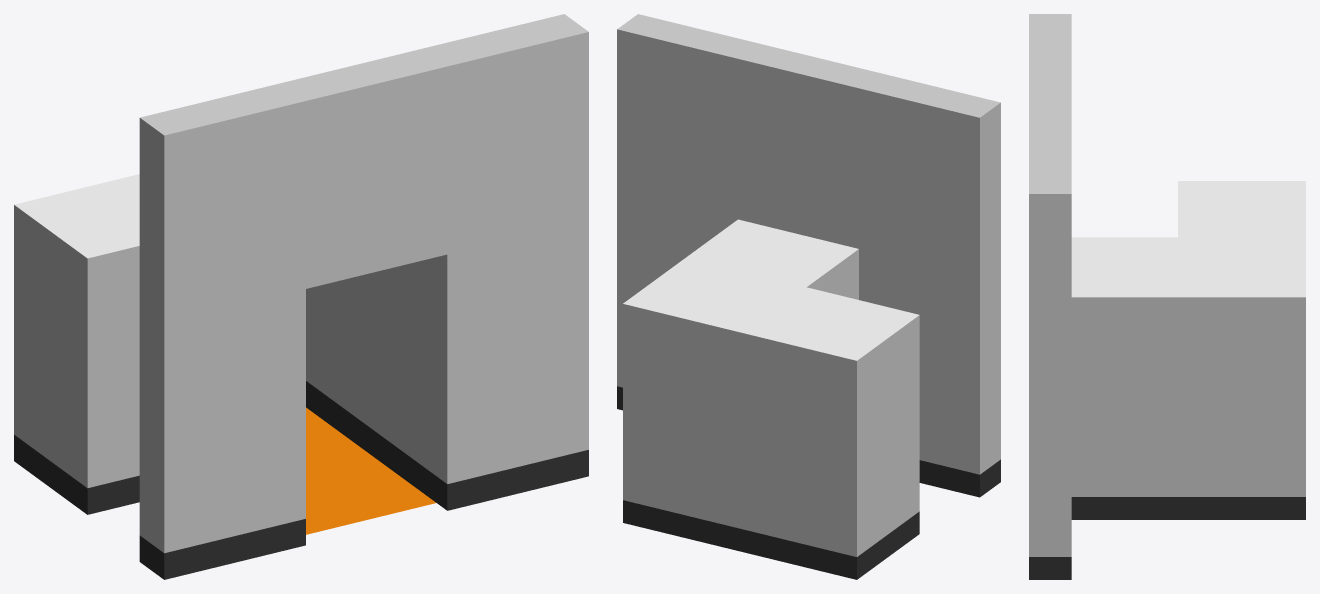
The model's file is RestroomLeft.fbx.
The picture shows the model from 3 angles, left to right: view 1: azimuth 30°, elevation 25°; view 2: azimuth 150°, elevation 25°; view 3: azimuth 270°, elevation 25°; orthographic projection. The views are drawn at different scales.
Visible parts, largest first — view 1: RestroomLeft.001; view 2: RestroomLeft.001; view 3: RestroomLeft.001.
Boxes of the visible parts, left/top/right/bottom form: RestroomLeft.001: left=14, top=14, right=588, bottom=579; RestroomLeft.001: left=617, top=14, right=1000, bottom=579; RestroomLeft.001: left=1029, top=14, right=1305, bottom=579.
Bounding box in the file's own units: 500 × 500 × 325.
